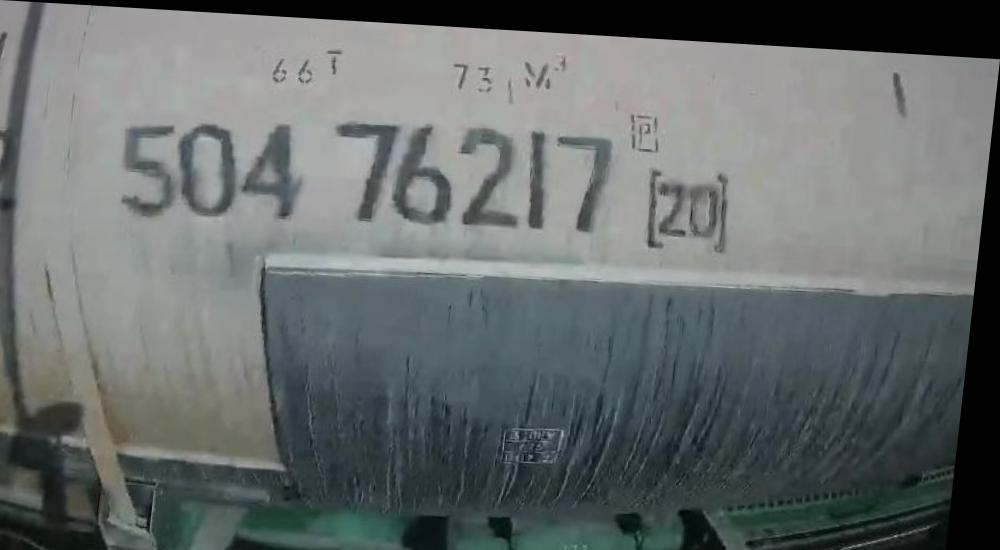Wagon-number: (113, 95, 627, 241)
